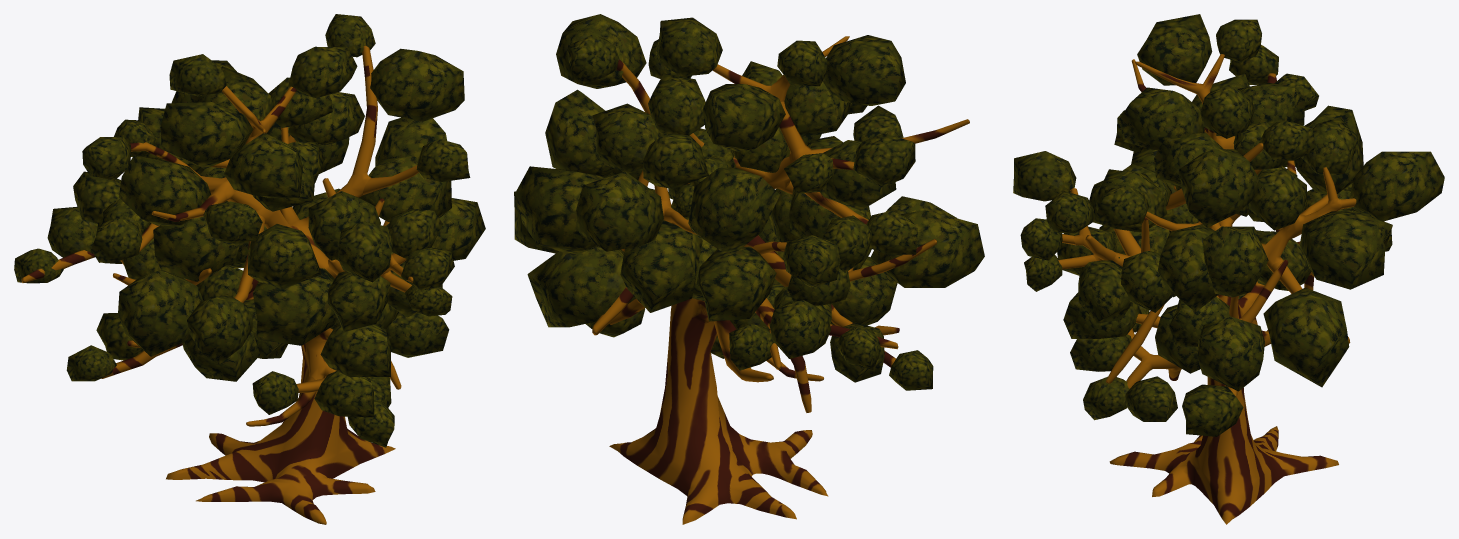
The model's file is tunnel_tree_A_1.fbx.
3 renders of one model, left to right at view 1: azimuth 30°, elevation 25°; view 2: azimuth 150°, elevation 25°; view 3: azimuth 270°, elevation 25°, orthographic. The views are drawn at different scales.
Visible parts, largest first — view 1: tunnel_tree_A_leaf_1, tunnel_Tree_A_runk_A_1; view 2: tunnel_tree_A_leaf_1, tunnel_Tree_A_runk_A_1; view 3: tunnel_tree_A_leaf_1, tunnel_Tree_A_runk_A_1.
Boxes of the visible parts, x1,y1,x2,y2 form: tunnel_tree_A_leaf_1: (14, 14, 485, 447); tunnel_Tree_A_runk_A_1: (21, 45, 418, 524); tunnel_tree_A_leaf_1: (514, 14, 984, 390); tunnel_Tree_A_runk_A_1: (592, 36, 969, 524); tunnel_tree_A_leaf_1: (1013, 14, 1444, 436); tunnel_Tree_A_runk_A_1: (1058, 54, 1356, 524).
Bounding box in the file's own units: 1310 × 1318 × 1238.
